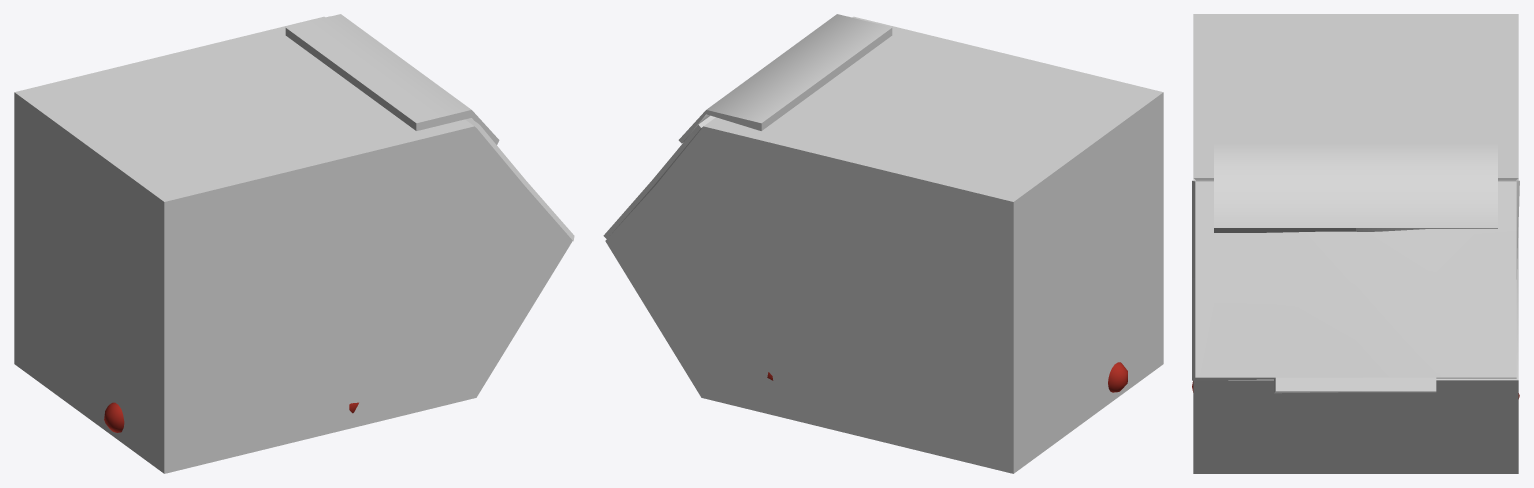
Rendered from Item_GumBallsVar_6.fbx.
The picture shows the model from 3 angles, left to right: view 1: azimuth 30°, elevation 25°; view 2: azimuth 150°, elevation 25°; view 3: azimuth 270°, elevation 25°; orthographic projection. The views are drawn at different scales.
Parts seen in each view (by area): view 1: Item_GumBallsVar_6; view 2: Item_GumBallsVar_6; view 3: Item_GumBallsVar_6.
Boxes of the visible parts, x1,y1,x2,y2 form: Item_GumBallsVar_6: (14,14,574,473); Item_GumBallsVar_6: (603,14,1163,473); Item_GumBallsVar_6: (1192,14,1519,473).
Size of the model in its own units: 73.46 by 46.76 by 44.9.
2 materials, 1 textured.
